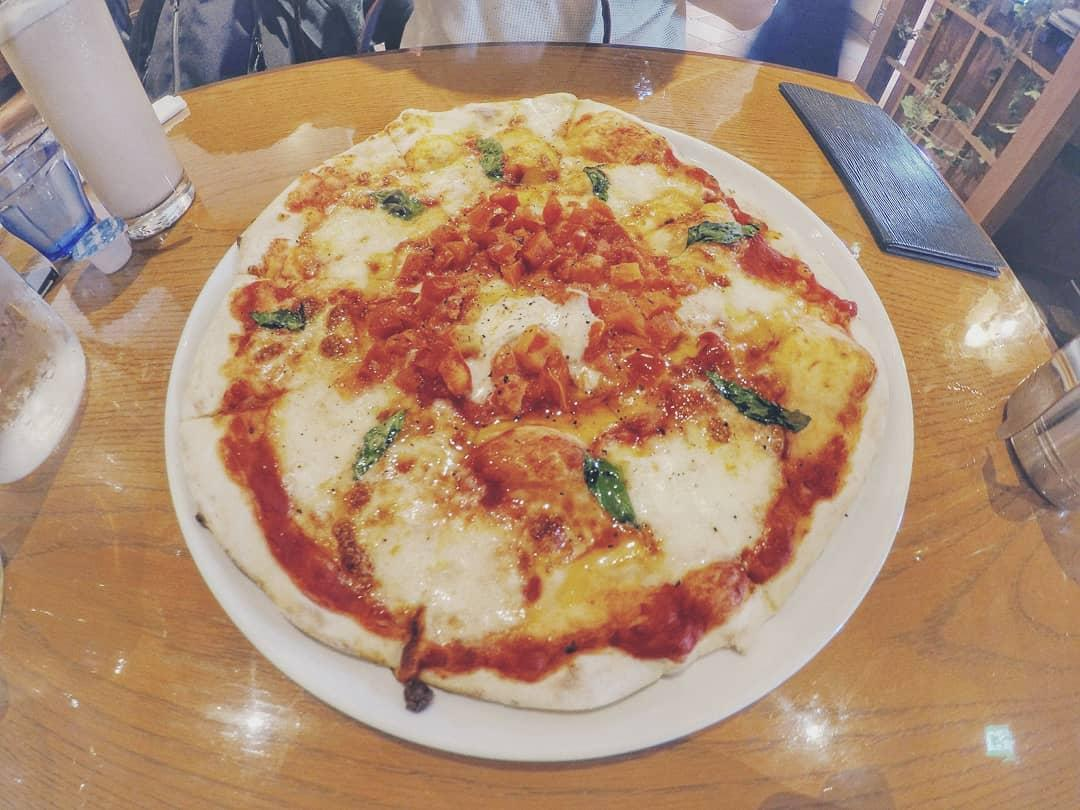Basil: (702, 369, 809, 429), (340, 403, 410, 479), (576, 451, 643, 530), (357, 180, 424, 219), (682, 219, 760, 250), (472, 133, 513, 187), (247, 304, 308, 339), (581, 161, 615, 206)
Cheese: (373, 499, 512, 616), (644, 448, 760, 551), (277, 389, 347, 509), (322, 215, 382, 277), (687, 287, 789, 315), (616, 165, 678, 205)
Pizza: (178, 99, 890, 715)
Tomatoes: (368, 252, 467, 376), (595, 215, 671, 373), (404, 206, 595, 251), (501, 334, 572, 407)
